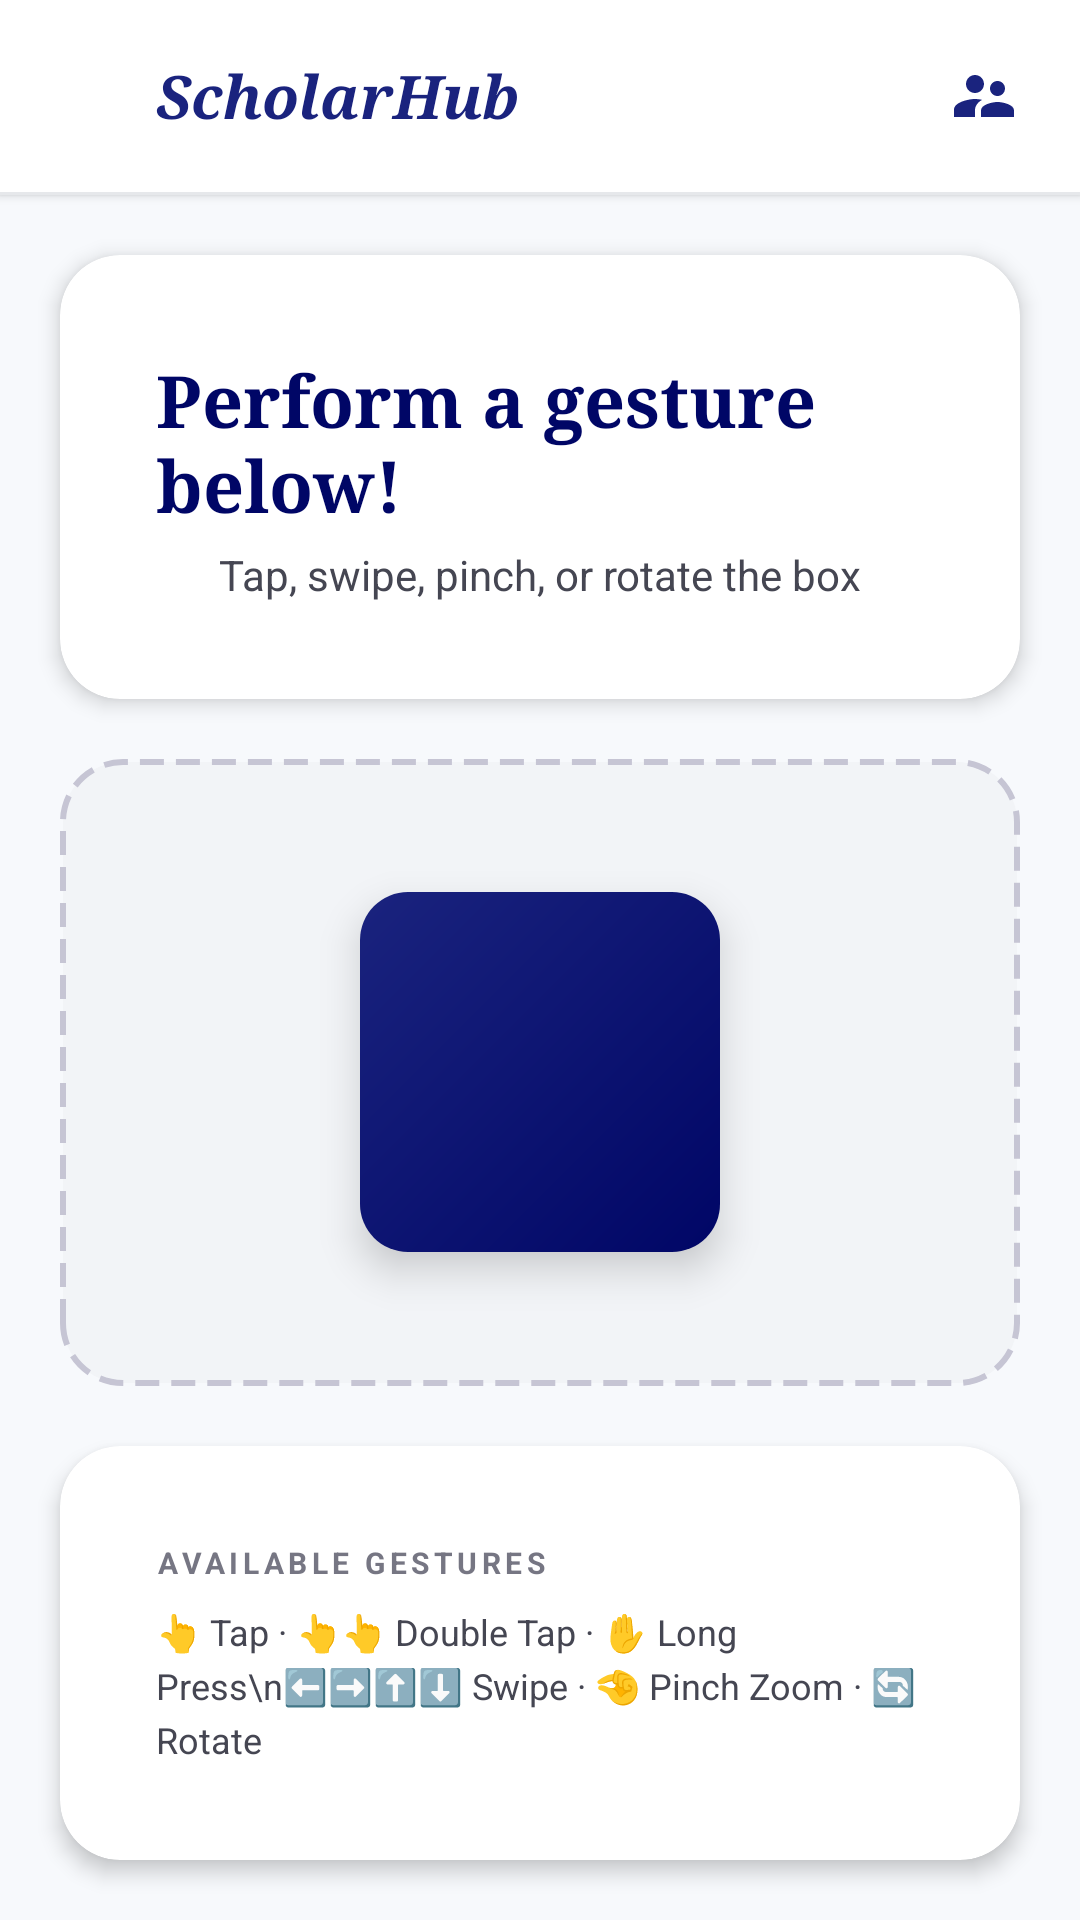

Named icons in this screenshot (1080px x 1920px) and their centers, (x=x, y=y):
users: (x=984, y=96)
